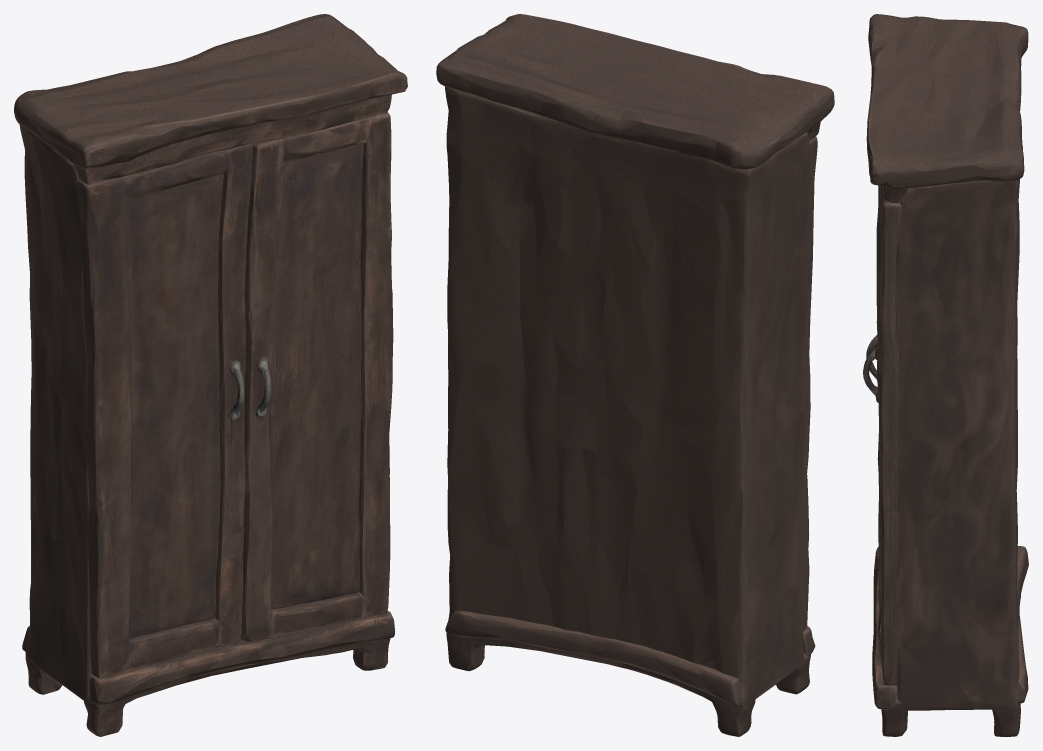
Rendered from armadio.glb.
The picture shows the model from 3 angles, left to right: view 1: azimuth 30°, elevation 25°; view 2: azimuth 150°, elevation 25°; view 3: azimuth 270°, elevation 25°; orthographic projection. The views are drawn at different scales.
Parts seen in each view (by area): view 1: Mesh_0; view 2: Mesh_0; view 3: Mesh_0.
Boxes of the visible parts, box(x1,y1,x2,y2) form: Mesh_0: box(14, 14, 407, 736); Mesh_0: box(436, 14, 834, 736); Mesh_0: box(863, 14, 1028, 736).
Size of the model in its own units: 1.07 by 1.9 by 0.4883.
Materials: 1 (1 with a texture image).
